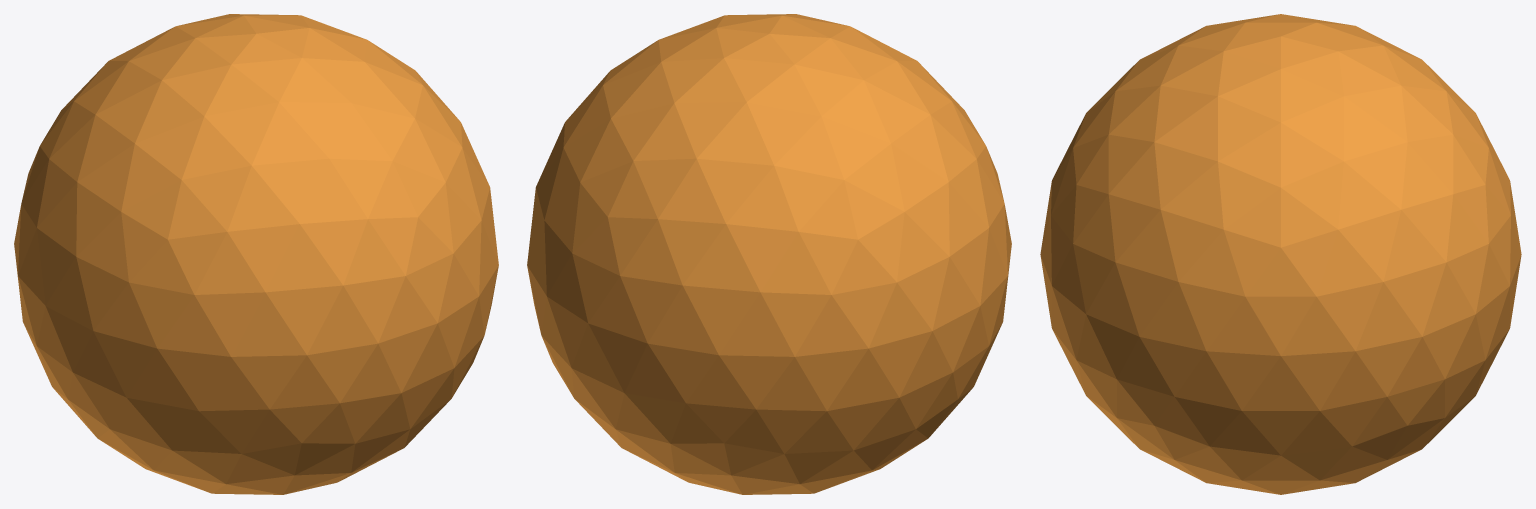
File: tinker.obj
3 views of the same model, side by side, from view 1: azimuth 30°, elevation 25°; view 2: azimuth 150°, elevation 25°; view 3: azimuth 270°, elevation 25° (orthographic).
Parts seen in each view (by area): view 1: obj_0; view 2: obj_0; view 3: obj_0.
Boxes of the visible parts, x1,y1,x2,y2 form: obj_0: [14, 14, 498, 494]; obj_0: [527, 14, 1011, 494]; obj_0: [1040, 14, 1521, 494].
Size of the model in its own units: 1 by 1 by 1.
